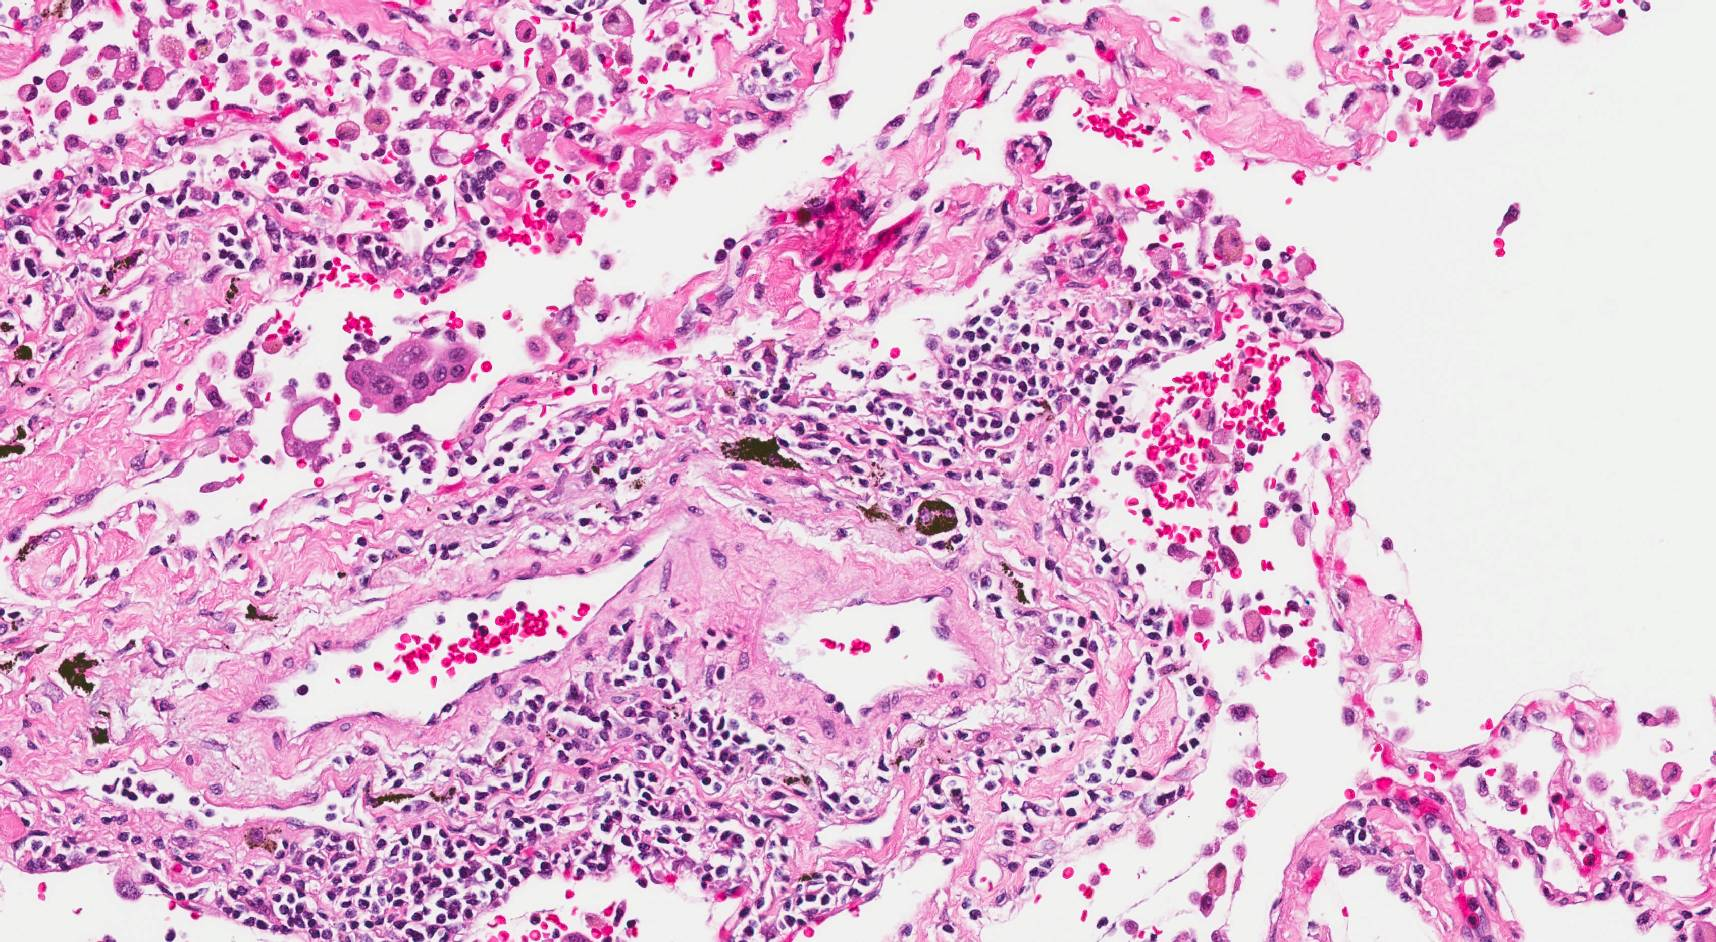stas: (344, 337, 476, 414), (279, 394, 340, 471), (1429, 82, 1500, 143)
